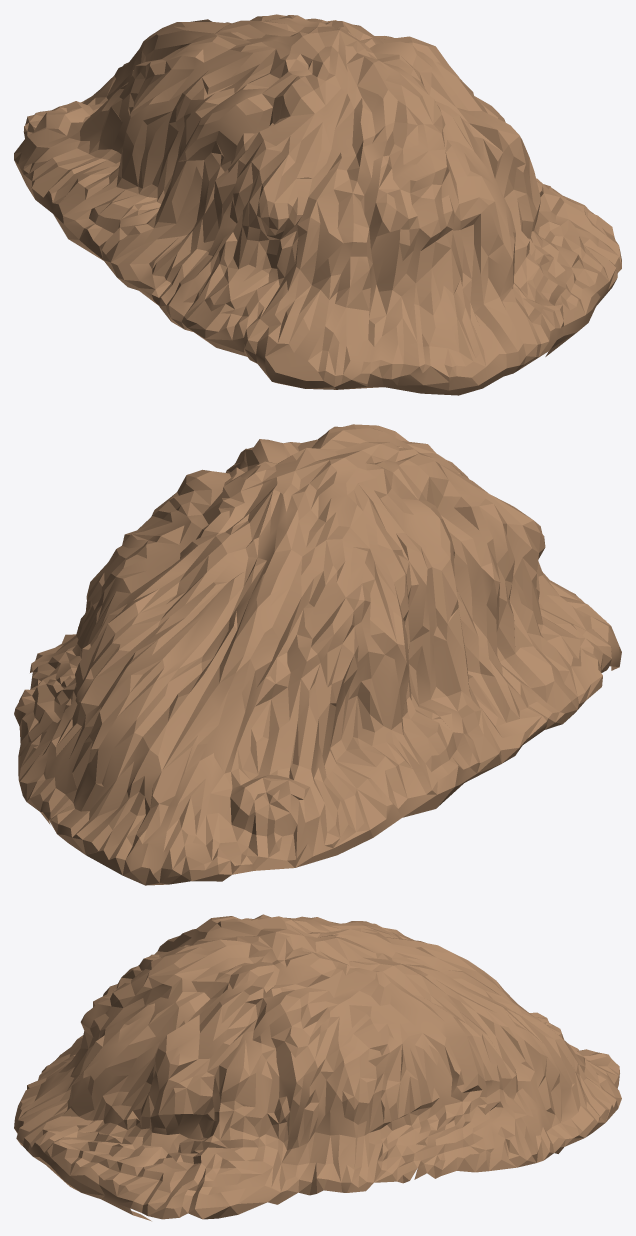
The model's file is Crag1.fbx.
3 renders of one model, top to bottom at view 1: azimuth 30°, elevation 25°; view 2: azimuth 150°, elevation 25°; view 3: azimuth 270°, elevation 25°, orthographic. The views are drawn at different scales.
Parts seen in each view (by area): view 1: Crag1; view 2: Crag1; view 3: Crag1.
Part boxes in pixels (x1,y1,x2,y2): Crag1: (14, 14, 621, 395); Crag1: (14, 424, 621, 885); Crag1: (14, 914, 621, 1221).
Size of the model in its own units: 31.88 by 18.28 by 45.53.
